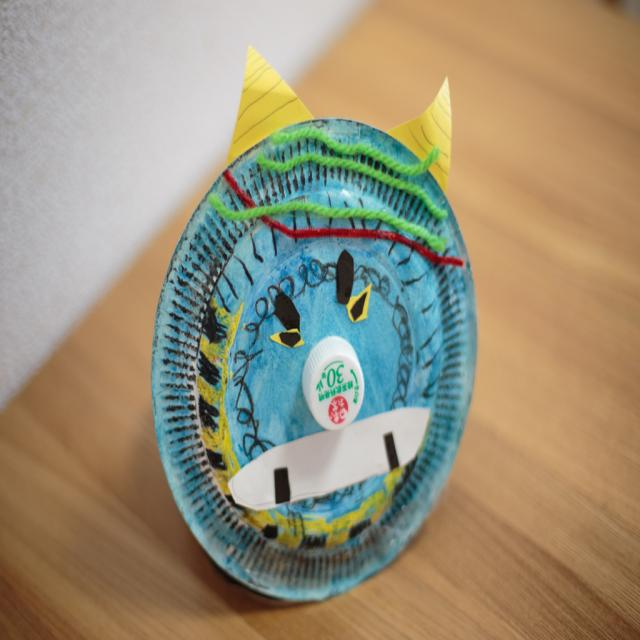non-organic waste: (141, 103, 486, 617)
